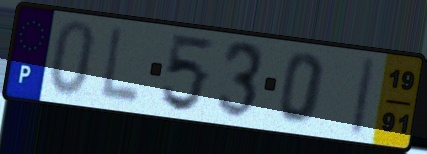0: (43, 17, 100, 101), (276, 49, 327, 128)
3: (214, 38, 266, 123)
5: (159, 30, 219, 114)
I: (345, 54, 380, 140)
L: (95, 24, 144, 109)
